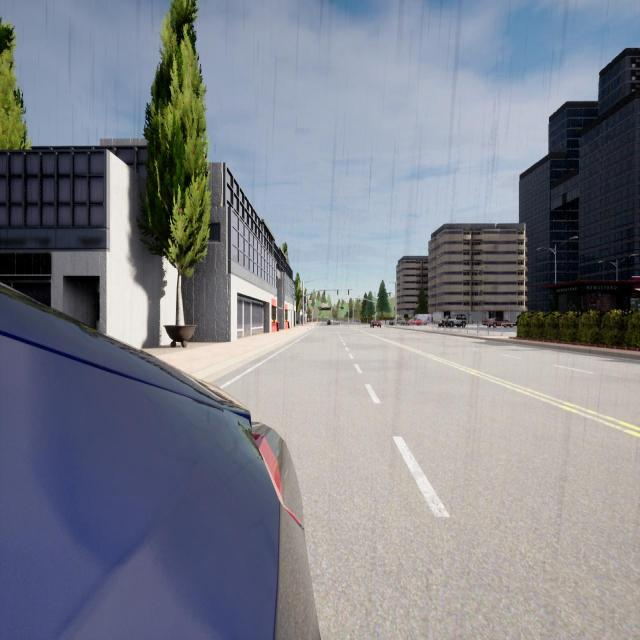Vehicle: (0, 283, 318, 640), (482, 317, 514, 328), (448, 314, 467, 328), (412, 314, 432, 325), (388, 317, 406, 326), (438, 315, 450, 328), (370, 318, 381, 328), (408, 319, 422, 326), (327, 320, 333, 326)
traffic_light: (374, 309, 376, 313), (348, 289, 349, 295), (324, 290, 325, 295), (337, 290, 338, 295), (394, 307, 395, 311), (359, 298, 360, 302), (390, 293, 390, 297), (342, 298, 342, 302), (350, 299, 350, 302)
